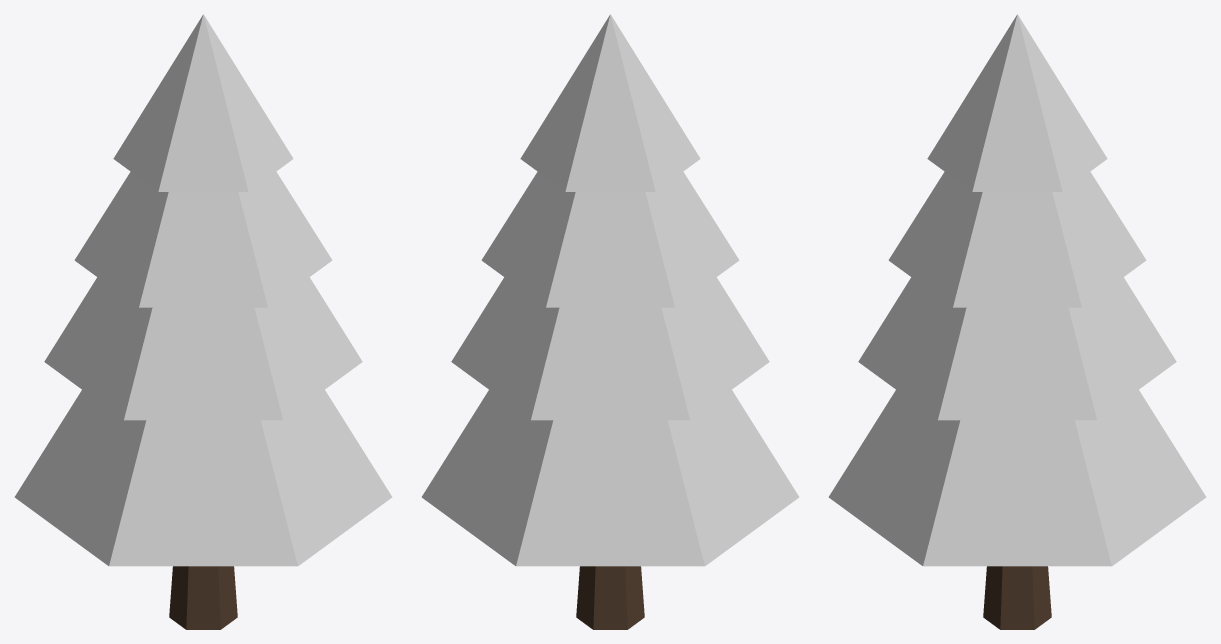
File: Tree_Winter.fbx
3 views of the same model, side by side, from view 1: azimuth 30°, elevation 25°; view 2: azimuth 150°, elevation 25°; view 3: azimuth 270°, elevation 25° (orthographic).
Parts seen in each view (by area): view 1: Tree_Winter; view 2: Tree_Winter; view 3: Tree_Winter.
Boxes of the visible parts, x1,y1,x2,y2 form: Tree_Winter: [14, 14, 392, 629]; Tree_Winter: [421, 14, 799, 629]; Tree_Winter: [828, 14, 1206, 629].
Bounding box in the file's own units: 175 × 357 × 203.
